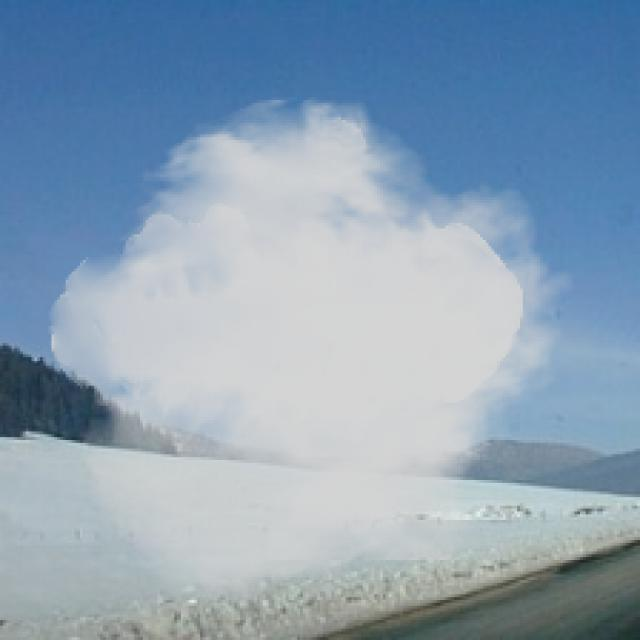smoke: (49, 91, 577, 606)
